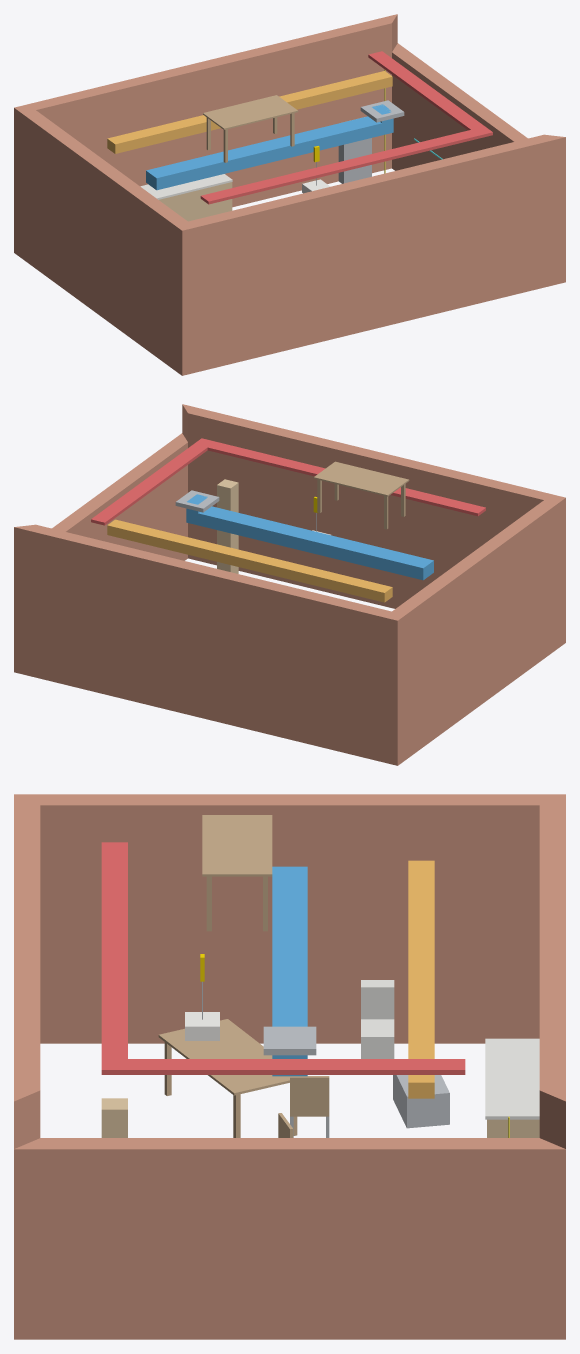
The model's file is 🪑components.glb.
3 views of the same model, one above another, from view 1: azimuth 30°, elevation 25°; view 2: azimuth 150°, elevation 25°; view 3: azimuth 270°, elevation 25° (orthographic). The views are drawn at different scales.
Parts seen in each view (by area): view 1: South, North, West, East, mep-supply, mep-tray, mep-return, cmp-kitchen, cmp-table-first, cmp-panel, cmp-diffuser; view 2: North, South, West, East, mep-supply, mep-return, mep-tray, cmp-table-first, cmp-pillar, cmp-diffuser; view 3: East, West, mep-tray, North, South, mep-return, mep-supply, cmp-kitchen, cmp-table-first, cmp-table, cmp-wc, cmp-fan (+4 smaller).
Boxes of the visible parts, x1,y1,x2,y2 form: South: (182,134,565,375); North: (15,14,397,207); West: (14,107,187,375); East: (392,43,527,170); mep-supply: (146,104,393,190); mep-tray: (200,51,492,204); mep-return: (107,71,392,153); cmp-kitchen: (140,174,232,221); cmp-table-first: (203,95,298,162); cmp-panel: (338,117,371,183); cmp-diffuser: (360,100,404,122); North: (14,524,397,765); South: (182,404,564,608); West: (392,497,565,765); East: (52,433,187,560); mep-supply: (186,494,433,580); mep-return: (107,519,392,602); mep-tray: (91,438,485,525); cmp-table-first: (314,461,409,529); cmp-pillar: (217,479,238,573); cmp-diffuser: (175,490,219,512); East: (14,1138,565,1339); West: (15,794,564,1043); mep-tray: (101,842,465,1074); North: (539,794,565,1148); South: (14,794,40,1148); mep-return: (408,860,434,1098); mep-supply: (272,866,307,1076); cmp-kitchen: (485,1038,539,1137); cmp-table-first: (202,815,272,931); cmp-table: (158,1019,297,1137); cmp-wc: (361,980,394,1058); cmp-fan: (393,1075,449,1128).
Bounding box in the file's own units: 8.3 × 3.74 × 6.3.
